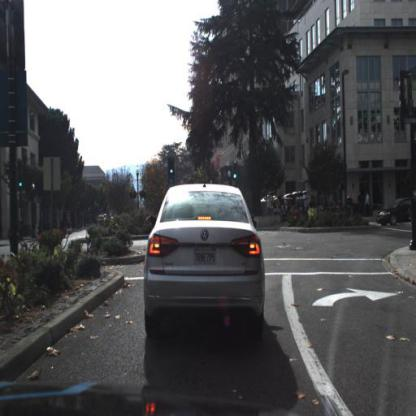car: (142, 185, 264, 340), (376, 198, 416, 233)
pedestrian: (106, 204, 115, 222)
trafficLight-Green: (168, 156, 177, 179), (17, 170, 26, 191), (17, 171, 25, 194), (232, 164, 240, 184)
trafficLight-Red: (171, 160, 176, 181)
